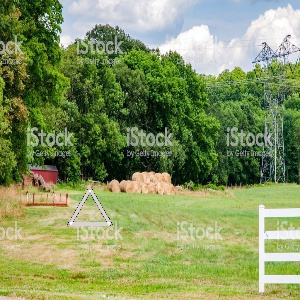triangle: (66, 187, 114, 228)
